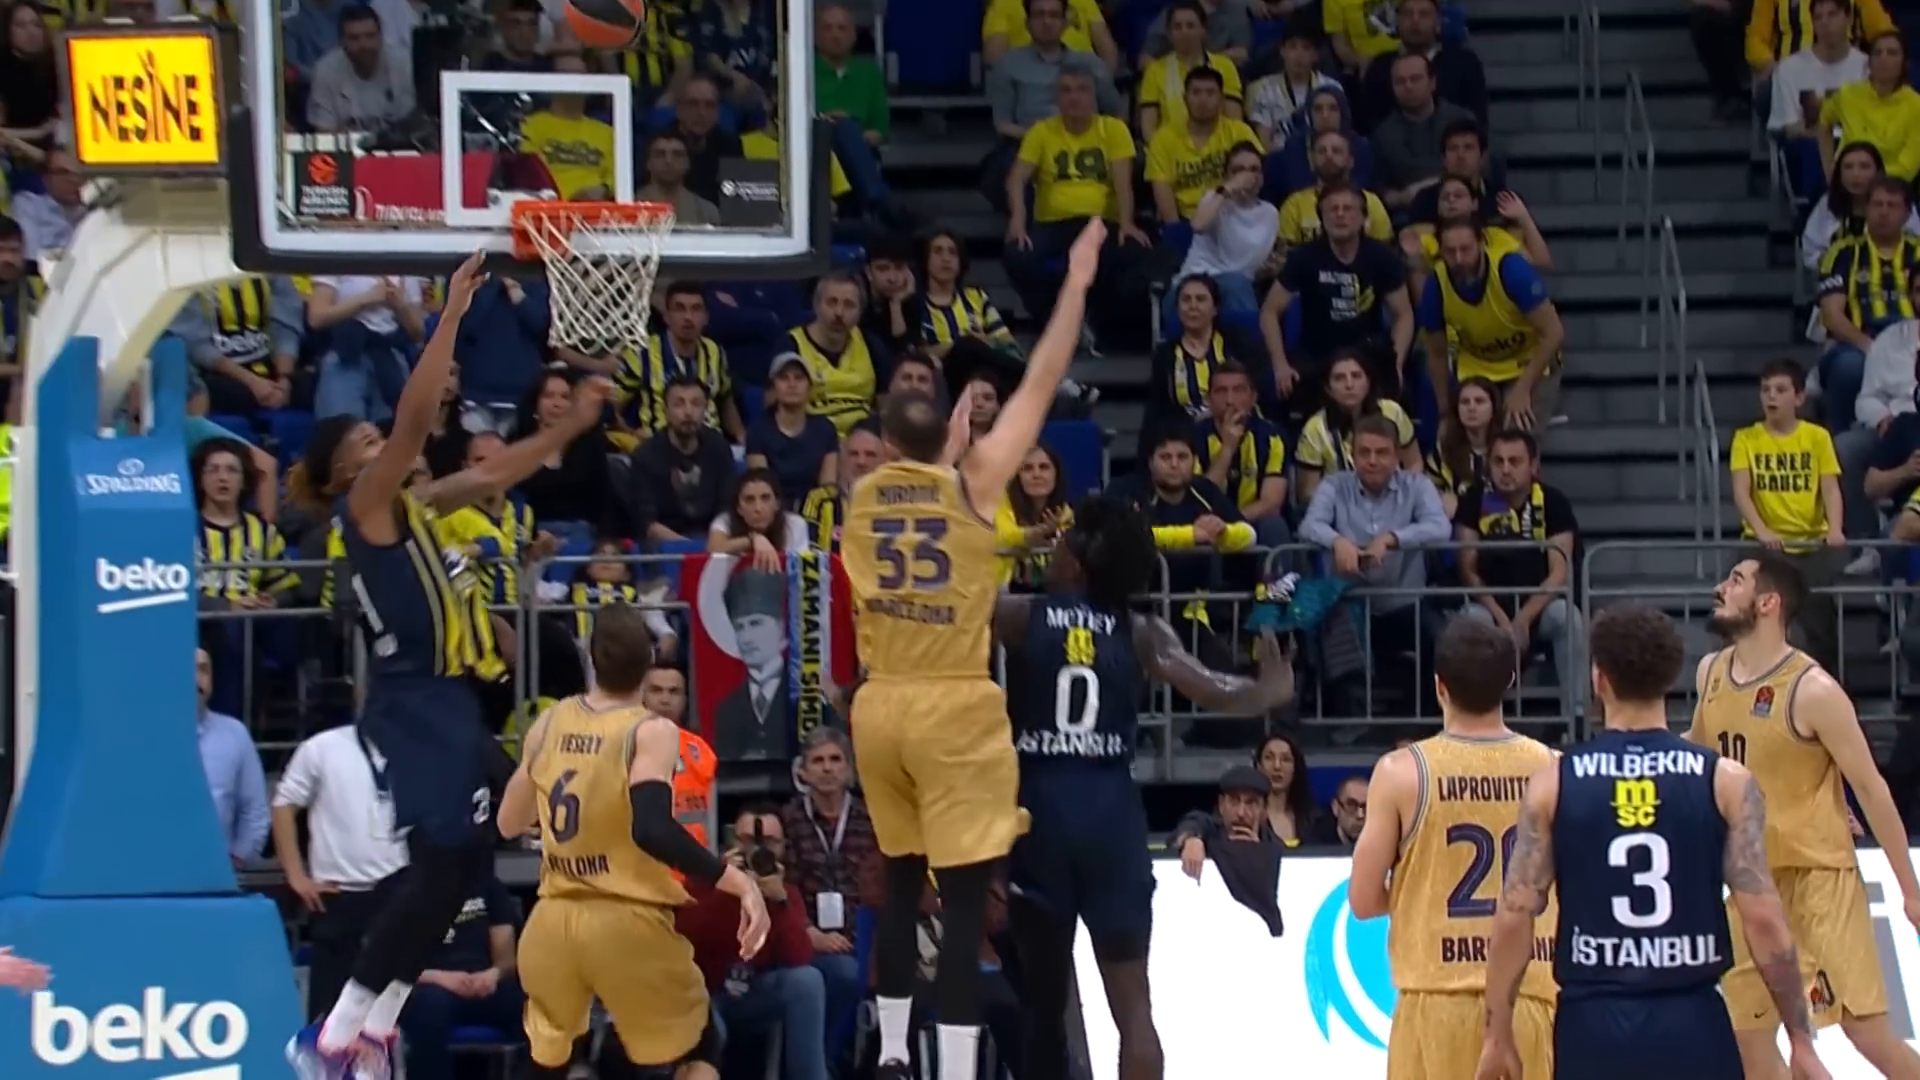ball: (553, 1, 653, 54)
net: (510, 196, 676, 353)
